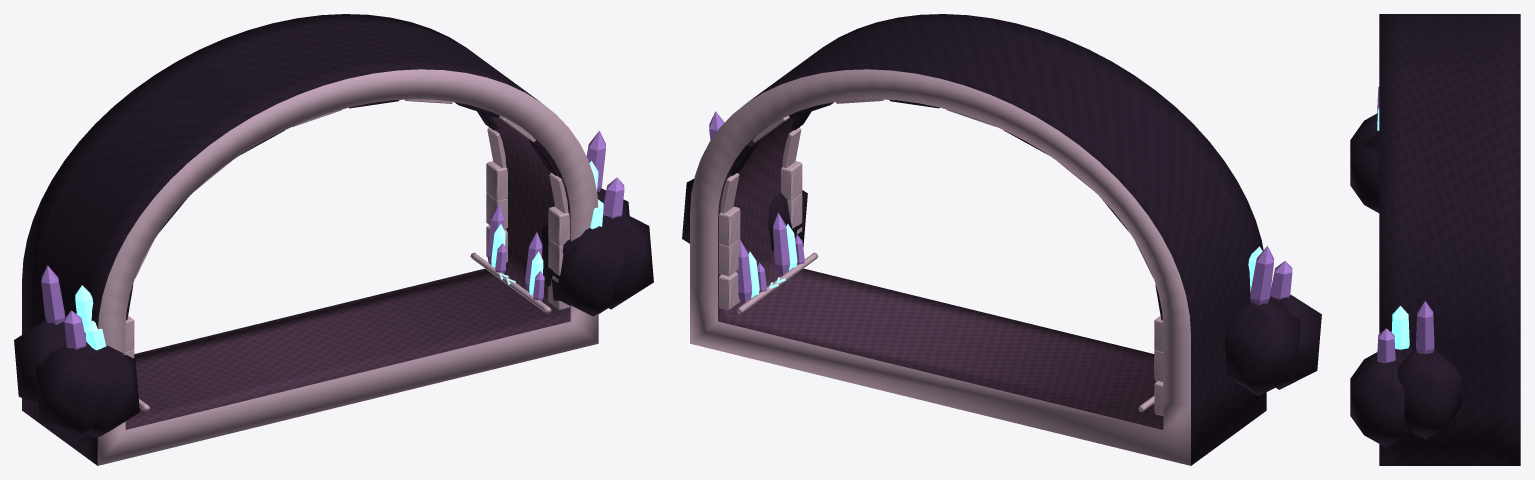
The model's file is portal_entry_lod1.glb.
The picture shows the model from 3 angles, left to right: view 1: azimuth 30°, elevation 25°; view 2: azimuth 150°, elevation 25°; view 3: azimuth 270°, elevation 25°; orthographic projection. The views are drawn at different scales.
Visible parts, largest first — view 1: TunnelGeometry.001; view 2: TunnelGeometry.001; view 3: TunnelGeometry.001.
Part boxes in pixels (x1=…): TunnelGeometry.001: x1=14, y1=14, x2=653, y2=465; TunnelGeometry.001: x1=682, y1=14, x2=1321, y2=465; TunnelGeometry.001: x1=1350, y1=14, x2=1520, y2=465.
Bounding box in the file's own units: 18.63 × 9.52 × 4.82.
5 materials, 2 textured.
